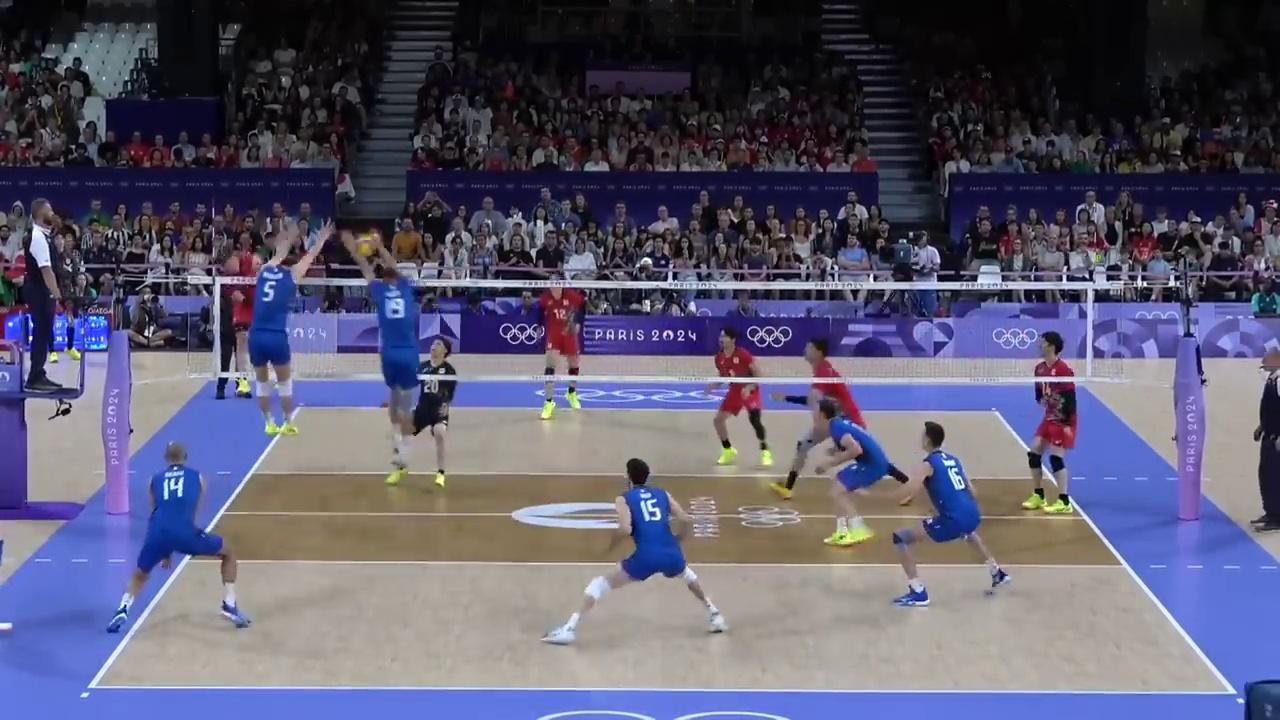ball: (354, 233, 379, 258)
